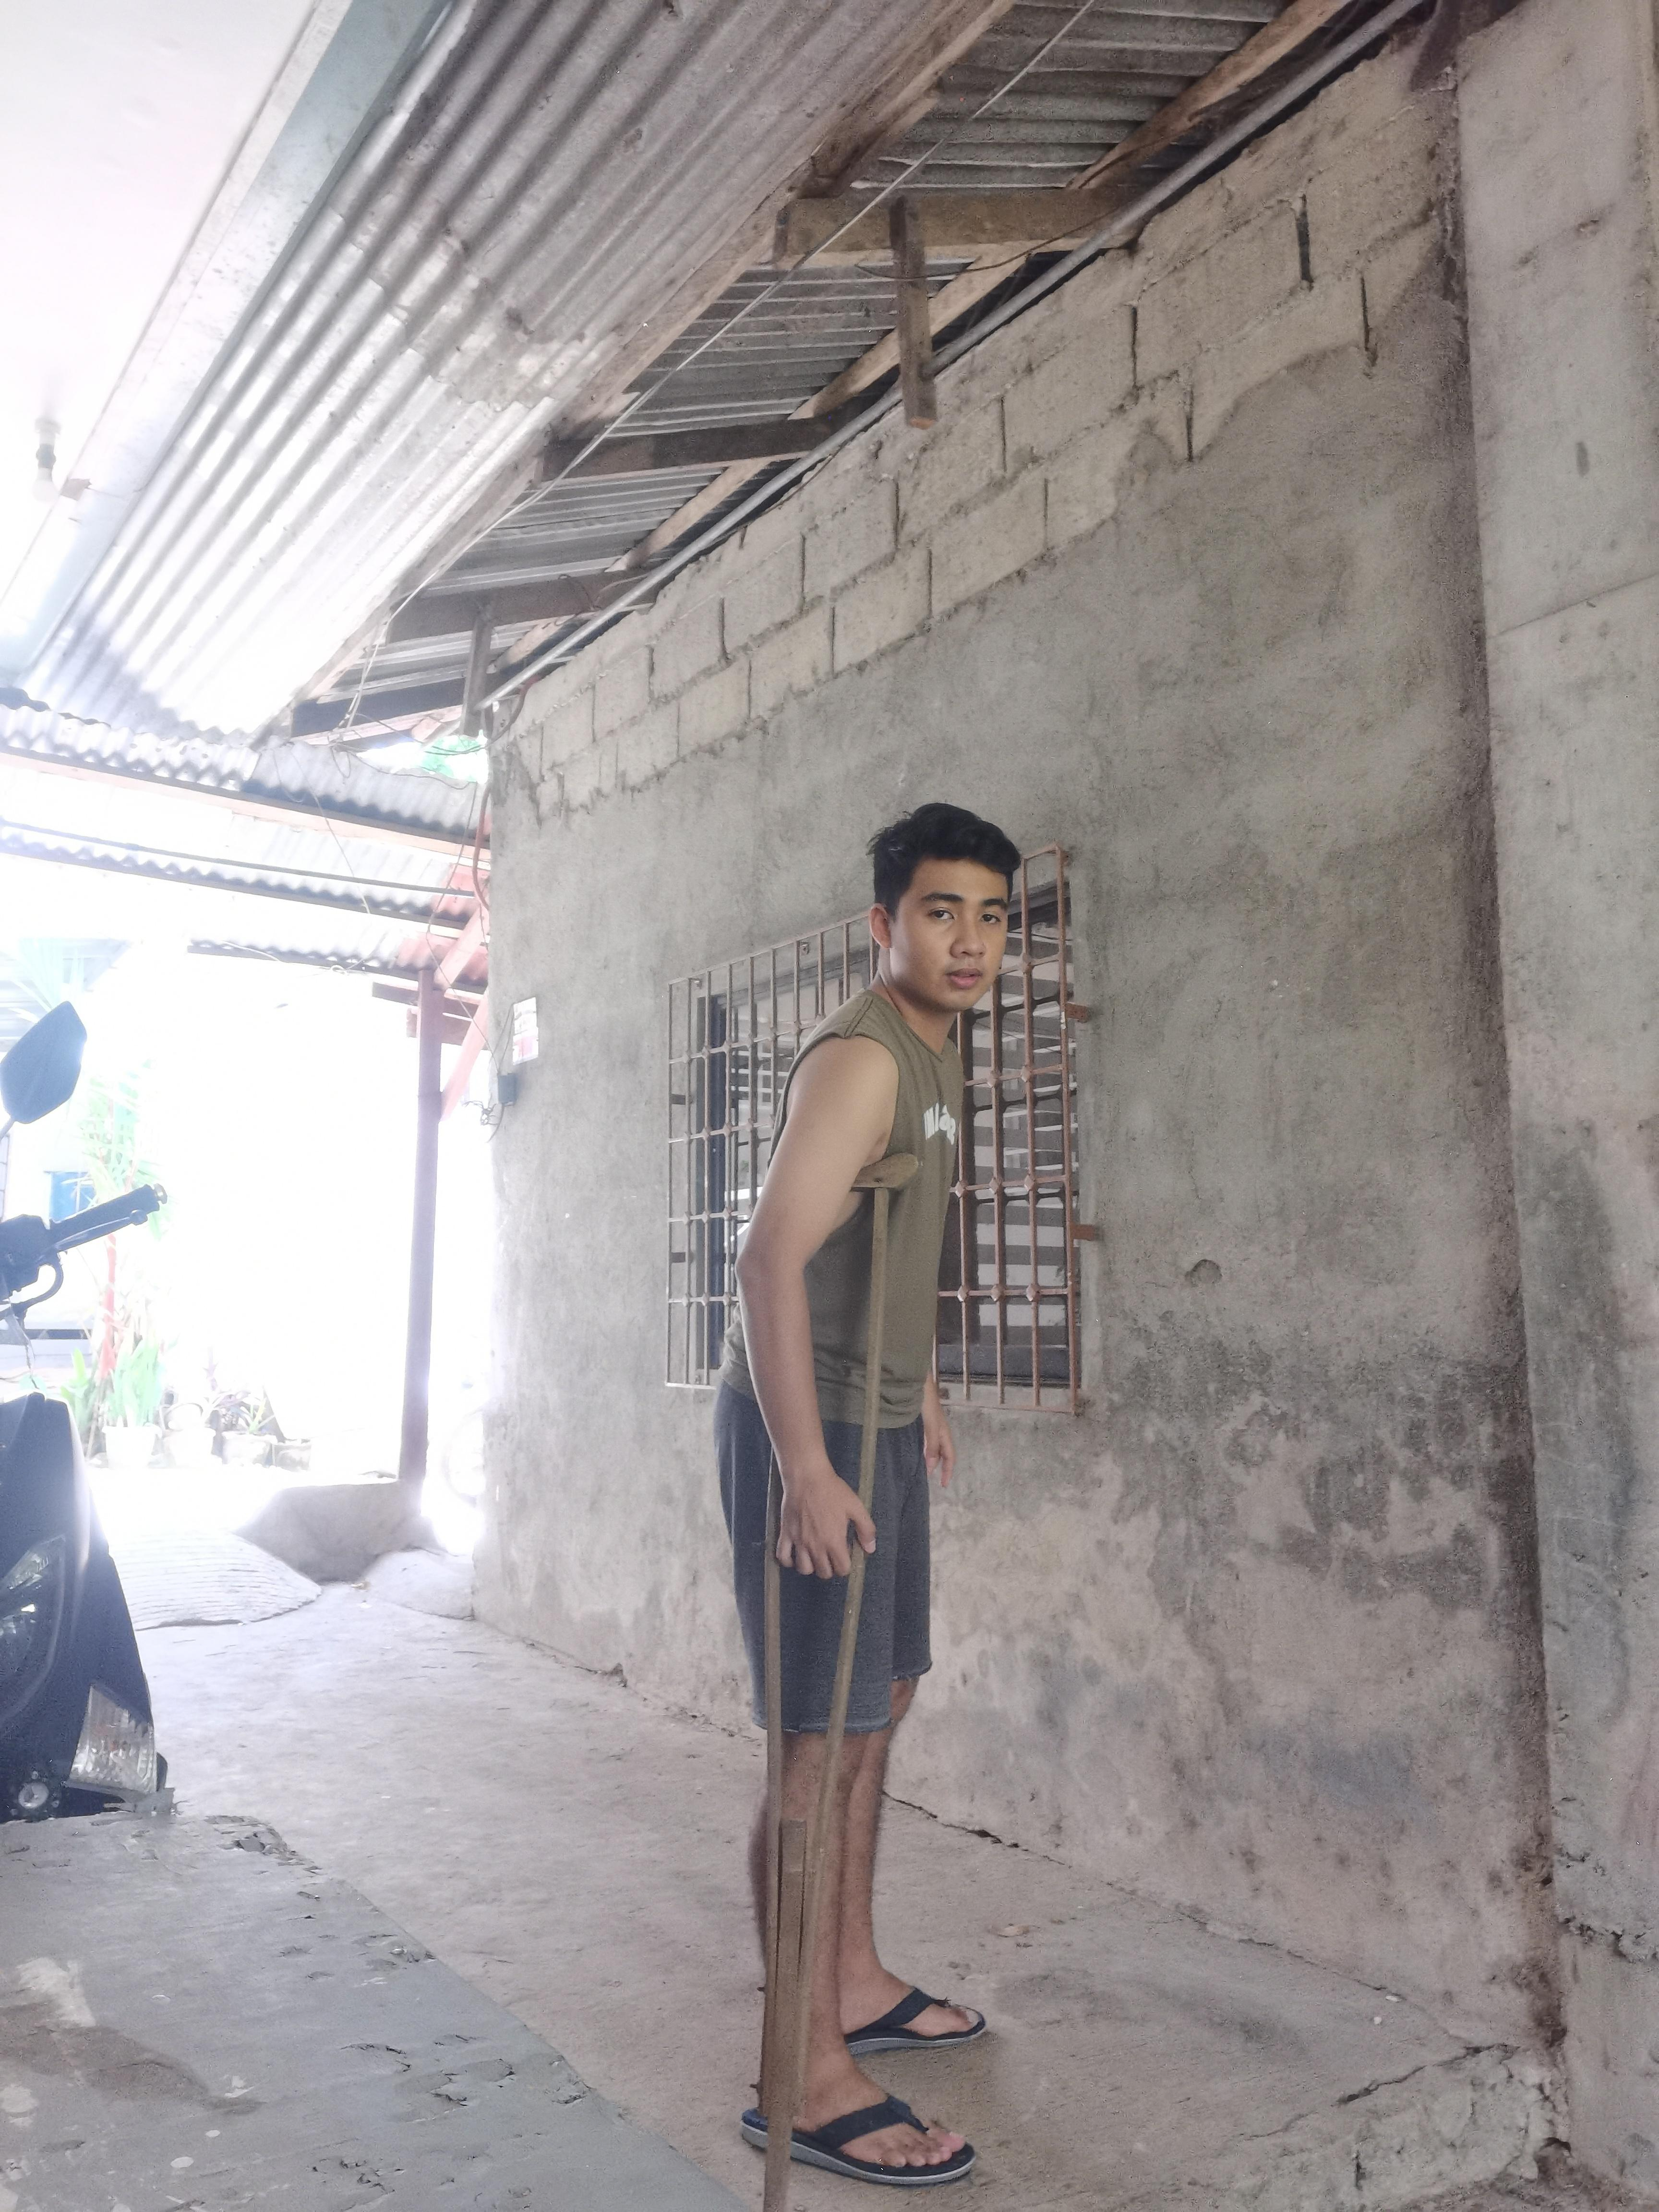crutches: (706, 784, 1037, 2212)
